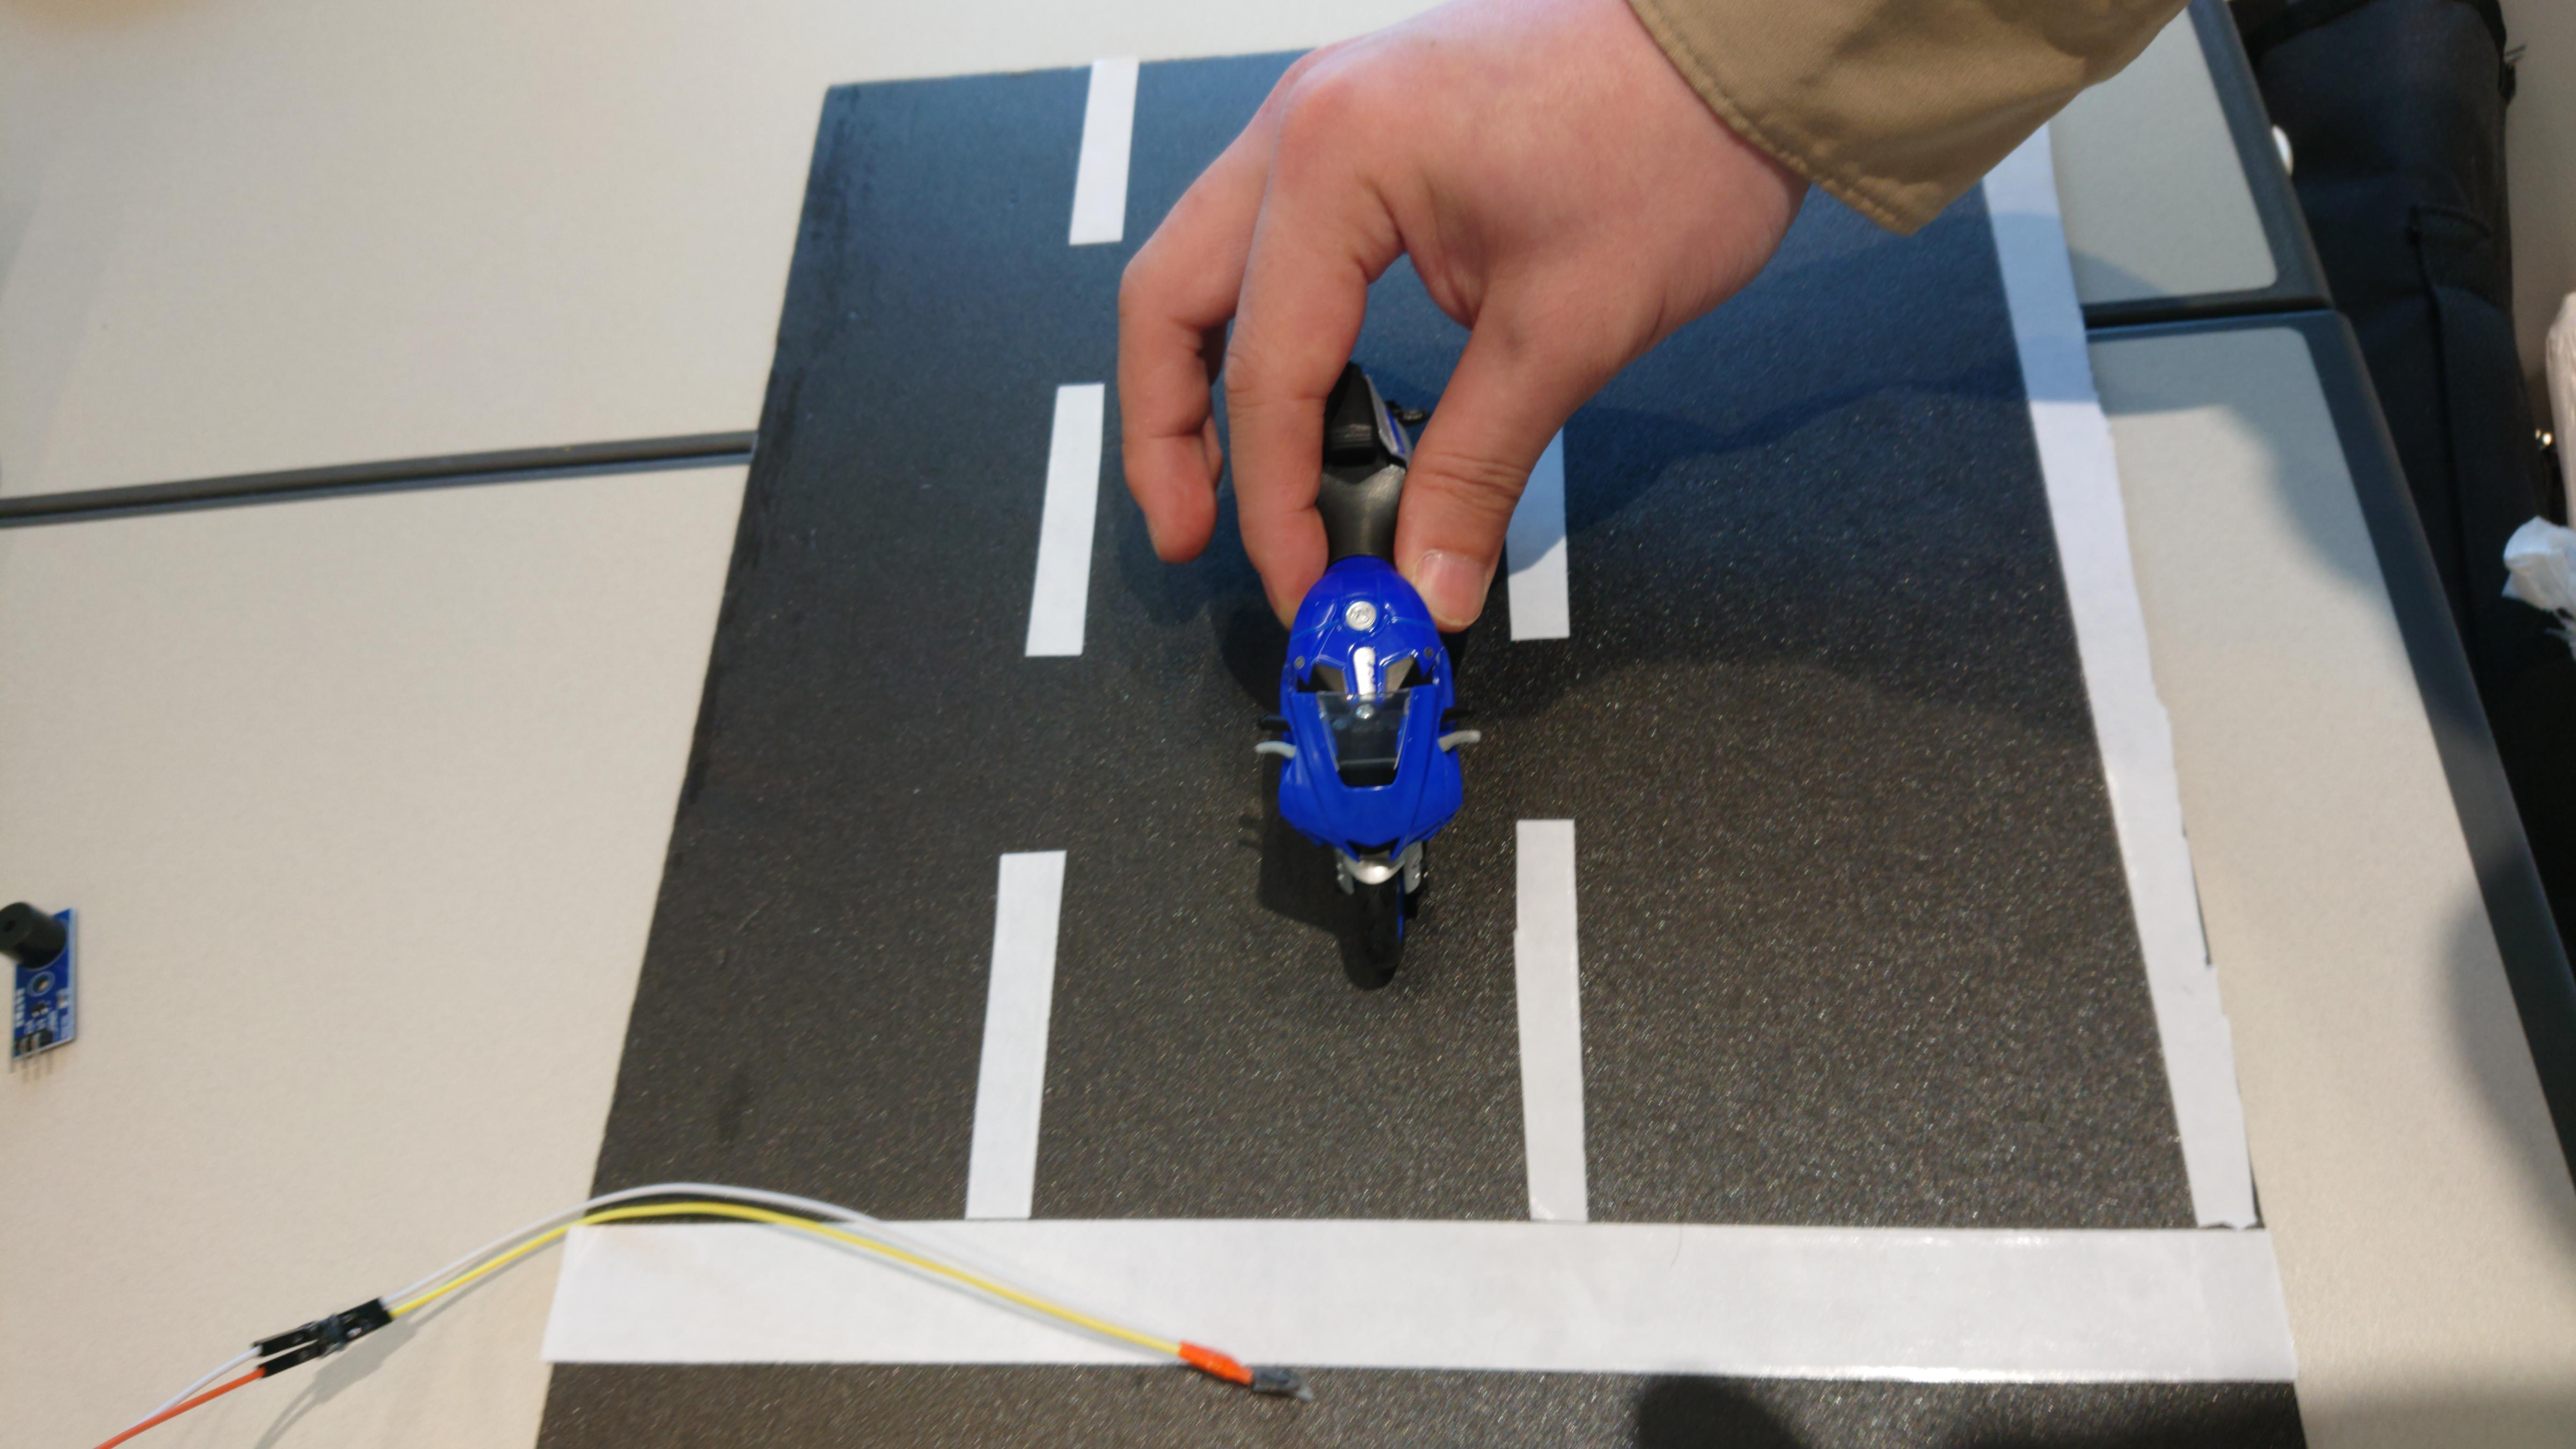Motorcycle: (1238, 343, 1491, 971)
